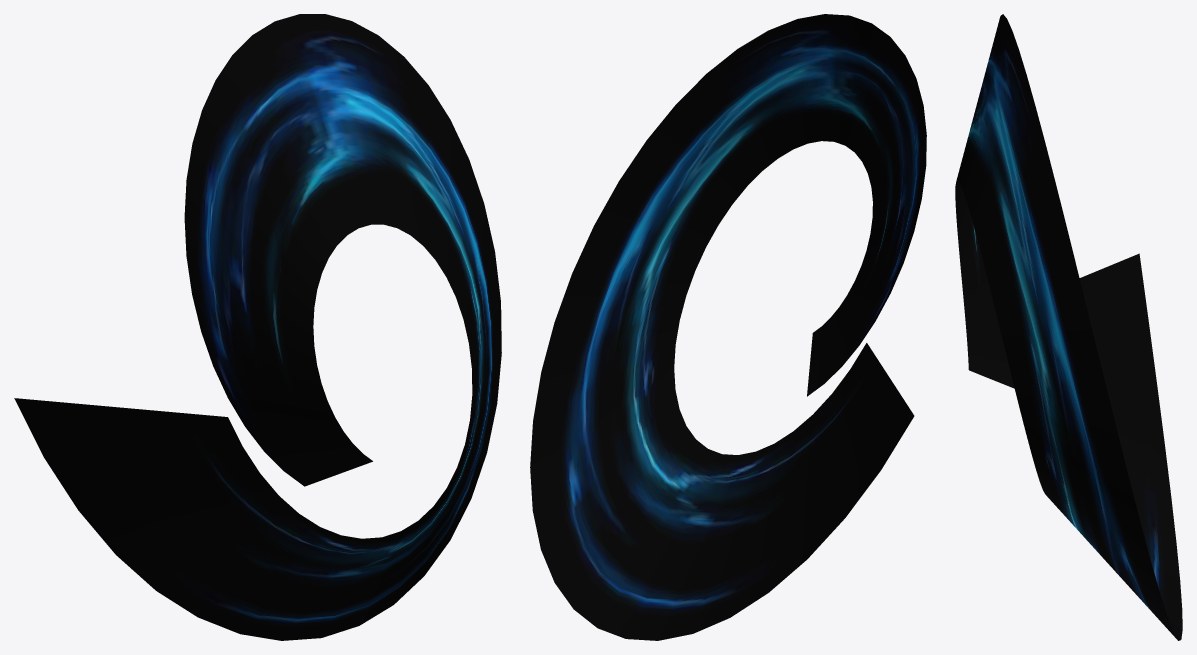
3 views of the same model, side by side, from view 1: azimuth 30°, elevation 25°; view 2: azimuth 150°, elevation 25°; view 3: azimuth 270°, elevation 25° (orthographic). The views are drawn at different scales.
Visible parts, largest first — view 1: Helix01; view 2: Helix01; view 3: Helix01.
Part boxes in pixels (x1,y1,x2,y2): Helix01: (14, 14, 501, 640); Helix01: (530, 14, 926, 640); Helix01: (955, 14, 1182, 640).
Bounding box in the file's own units: 7.96 × 11.7 × 4.38.
Materials: 1 (1 with a texture image).
